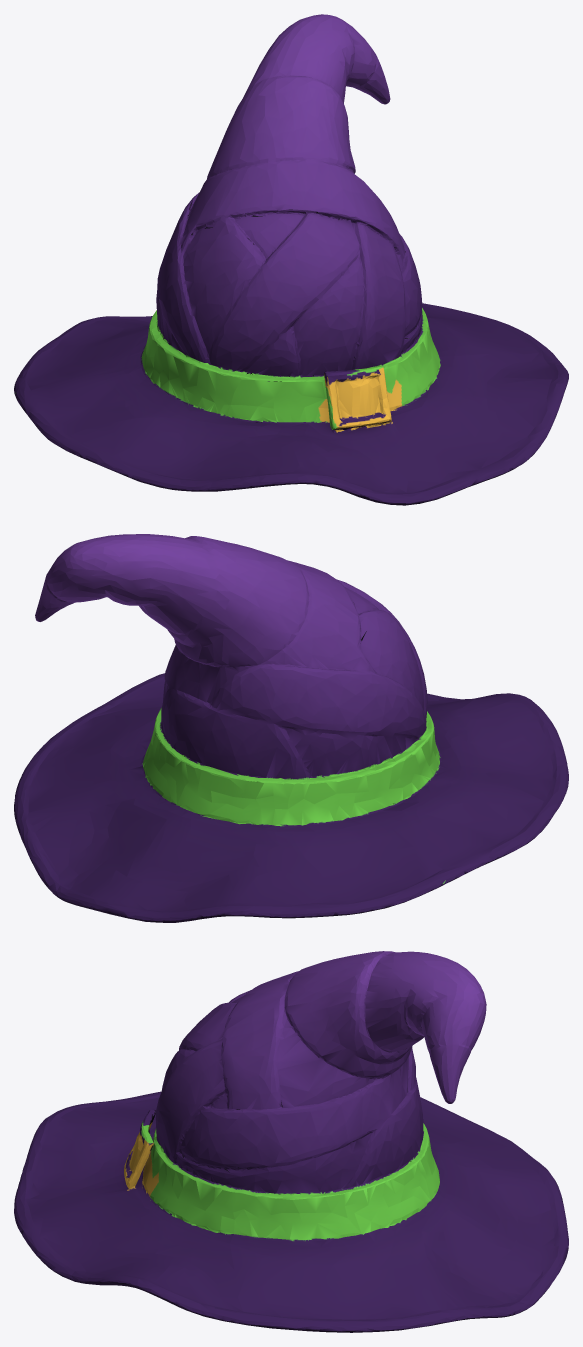
The model's file is BallWitchHat.fbx.
3 renders of one model, top to bottom at view 1: azimuth 30°, elevation 25°; view 2: azimuth 150°, elevation 25°; view 3: azimuth 270°, elevation 25°, orthographic.
Visible parts, largest first — view 1: BallWitchHat; view 2: BallWitchHat; view 3: BallWitchHat.
Boxes of the visible parts, x1,y1,x2,y2 form: BallWitchHat: [14, 14, 568, 505]; BallWitchHat: [14, 534, 568, 922]; BallWitchHat: [14, 951, 568, 1332].
Size of the model in its own units: 189 by 127 by 190.
1 material, 1 textured.
